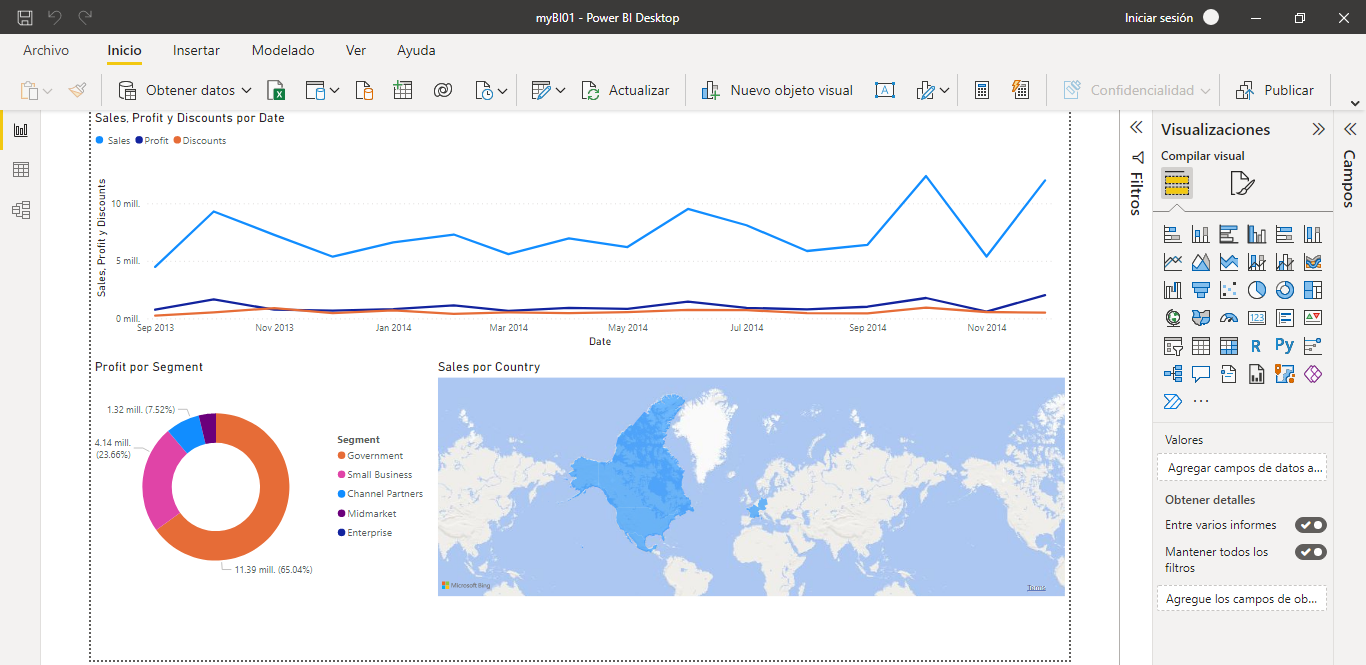

This screenshot's page, from the dashboard's own definition file:
{"tool":"powerbi","page":{"name":"Página 2","canvas":[1280,720],"ordinal":1},"visuals":[{"type":"lineChart","fields":{"Y":["Sum(Sheet1. Sales)","Sum(Sheet1.Profit)","Sum(Sheet1.Discounts)"],"Category":["Sheet1.Date"]},"box":[0,0,1279.7,315.9],"z":0},{"type":"donutChart","fields":{"Category":["Sheet1.Segment"],"Y":["Sum(Sheet1.Profit)"]},"box":[0,326.1,449.3,315.9],"z":1},{"type":"filledMap","fields":{"Category":["Sheet1.Country"]},"box":[449,326,831,316],"z":2}]}

Visuals, with their boxes on the page's 1280x720 design canvas (x1, y1, x2, y2). These are canvas units, not pixel positions in the 1366x665 screenshot, which may show the page scaled, cropped or inside an application window:
lineChart - Sum(Sheet1. Sales) x Sum(Sheet1.Profit): [x1=0, y1=0, x2=1280, y2=316]
donutChart - Sheet1.Segment x Sum(Sheet1.Profit): [x1=0, y1=326, x2=449, y2=642]
filledMap - Sheet1.Country: [x1=449, y1=326, x2=1280, y2=642]
